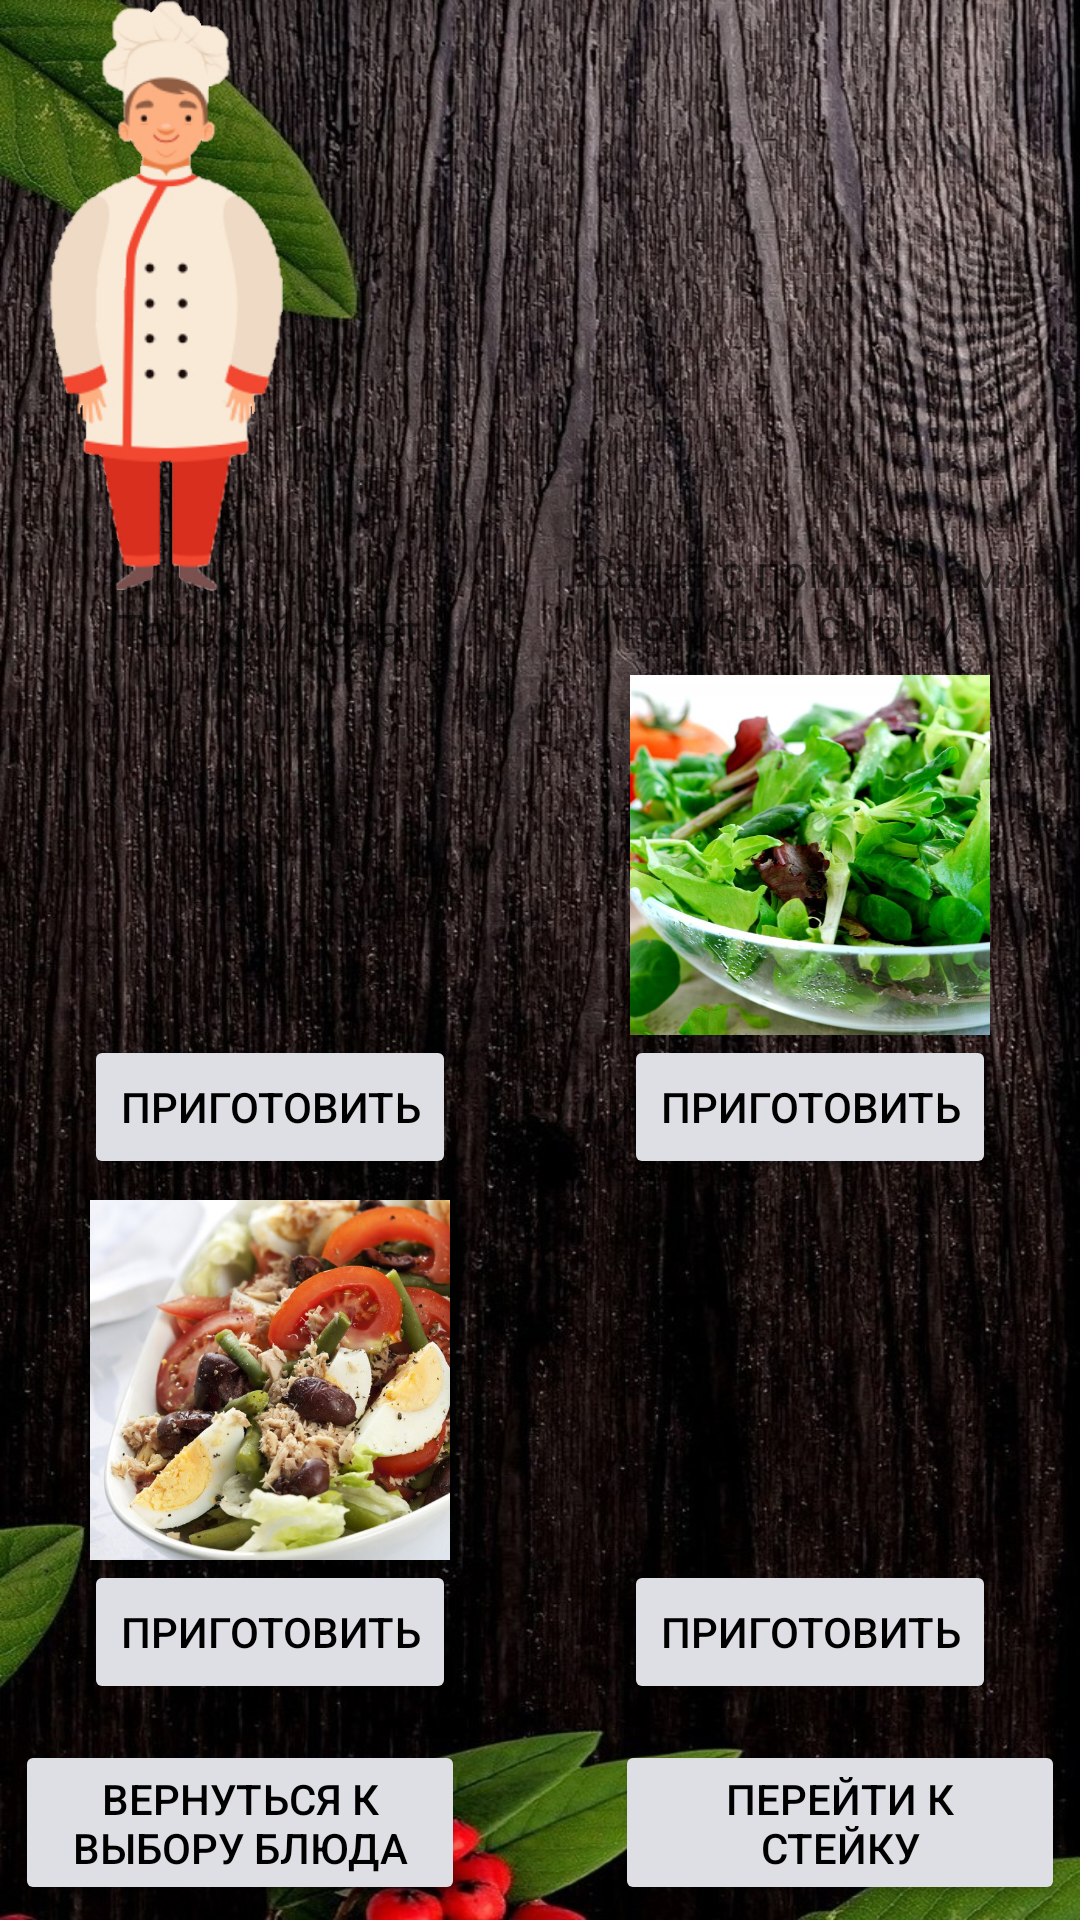

Named icons in this screenshot (1080×1920) and their bounding boxes, (x1, y1, x2, y2):
nicoise salad: (90, 1200, 450, 1560)
